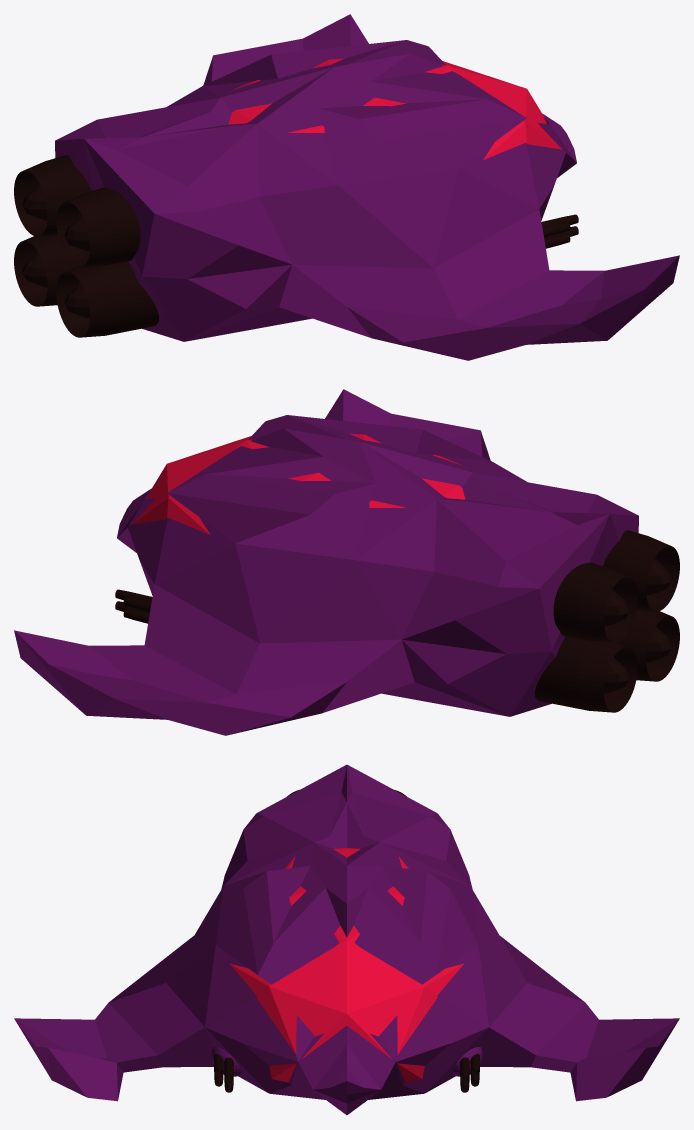
Rendered from Arachnid.fbx.
The picture shows the model from 3 angles, top to bottom: view 1: azimuth 30°, elevation 25°; view 2: azimuth 150°, elevation 25°; view 3: azimuth 270°, elevation 25°; orthographic projection. The views are drawn at different scales.
Parts seen in each view (by area): view 1: Ship Body, Jet Engine, Glass, Guns; view 2: Ship Body, Jet Engine, Glass, Guns; view 3: Ship Body, Glass, Guns.001, Sphere, Guns.
Part boxes in pixels (x1,y1,x2,y2): Ship Body: (55,14,679,360); Jet Engine: (14,155,158,337); Glass: (228,58,561,159); Guns: (542,222,570,248); Ship Body: (14,389,638,735); Jet Engine: (535,530,679,712); Glass: (132,433,465,534); Guns: (123,597,151,623); Ship Body: (14,764,679,1114); Glass: (230,847,463,1082); Guns.001: (224,1057,469,1092); Sphere: (211,1047,482,1076); Guns: (214,1053,479,1086).
Bounding box in the file's own units: 584 × 239 × 708.
